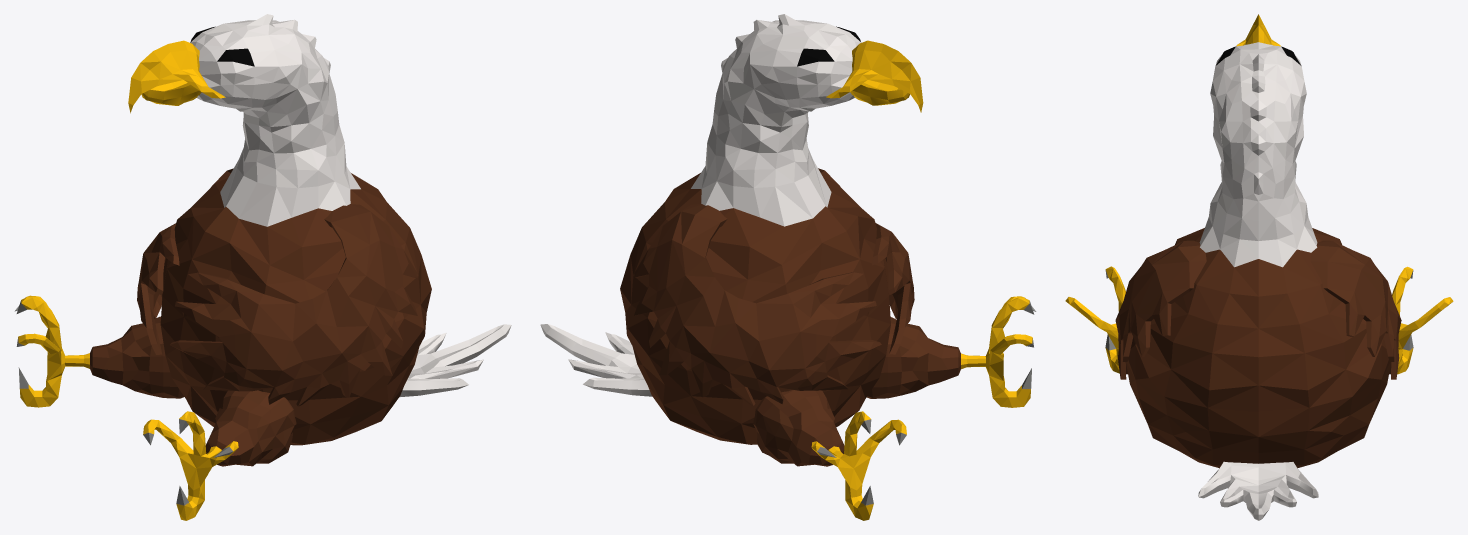
File: Gammur_01.fbx
3 renders of one model, left to right at view 1: azimuth 30°, elevation 25°; view 2: azimuth 150°, elevation 25°; view 3: azimuth 270°, elevation 25°, orthographic. The views are drawn at different scales.
Parts seen in each view (by area): view 1: SM_leg_left; view 2: SM_leg_left; view 3: SM_leg_left.
Part boxes in pixels (x1,y1,x2,y2): SM_leg_left: [14, 14, 511, 520]; SM_leg_left: [540, 14, 1036, 520]; SM_leg_left: [1065, 14, 1453, 520].
Bounding box in the file's own units: 236 × 216 × 198.
4 materials, 4 textured.
